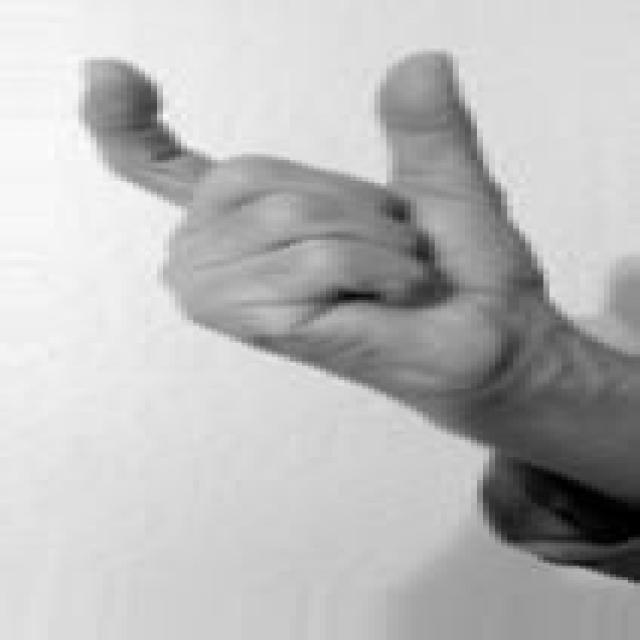U: (76, 45, 567, 391)
